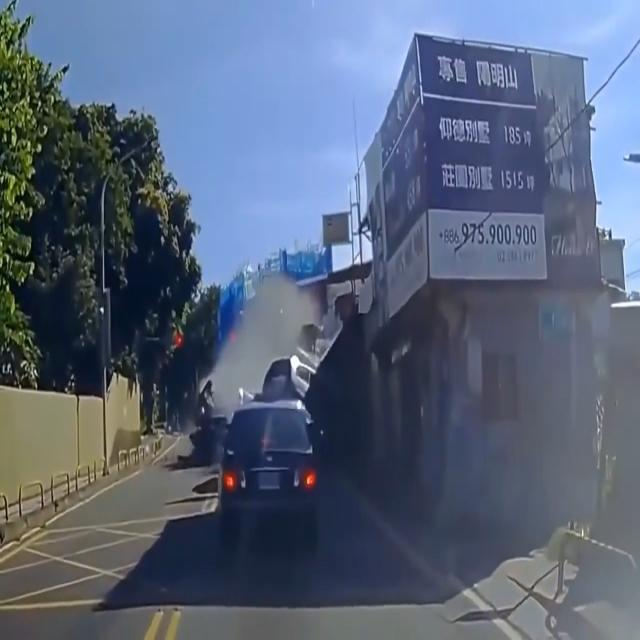accident: (181, 353, 342, 471)
